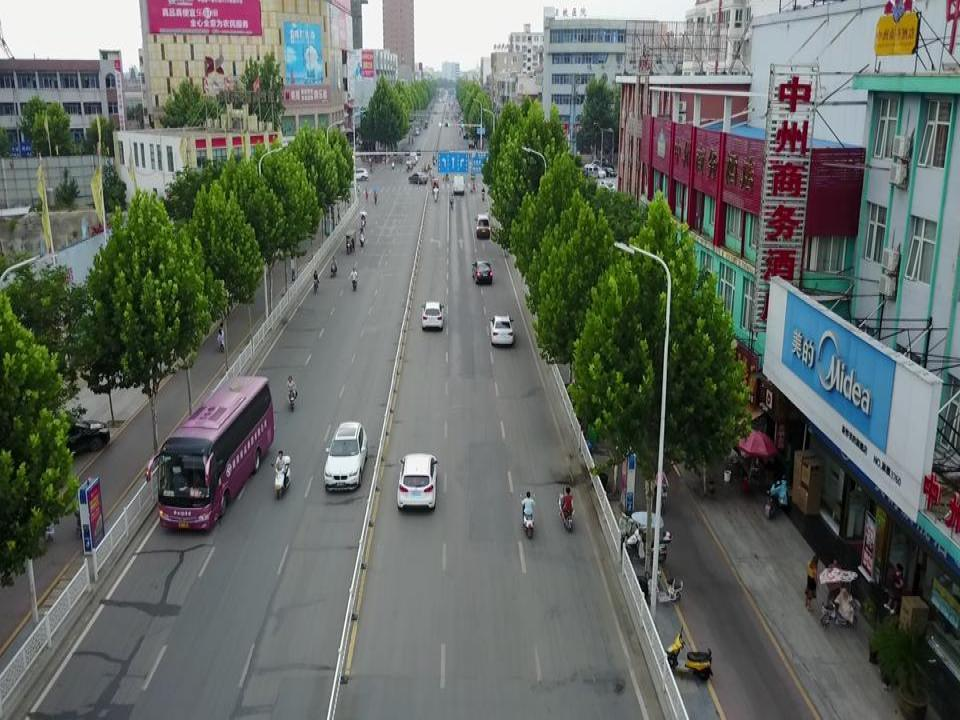bus: (145, 373, 274, 535)
car: (325, 420, 367, 493), (396, 451, 438, 513), (42, 419, 109, 453), (488, 314, 515, 346), (421, 300, 445, 331), (471, 259, 493, 285), (407, 172, 428, 185), (348, 168, 369, 180), (590, 165, 606, 179), (600, 180, 615, 193), (603, 166, 617, 178), (584, 159, 601, 168), (578, 167, 587, 177)
truck: (452, 175, 466, 193)
van: (475, 214, 491, 234), (584, 165, 598, 179)
